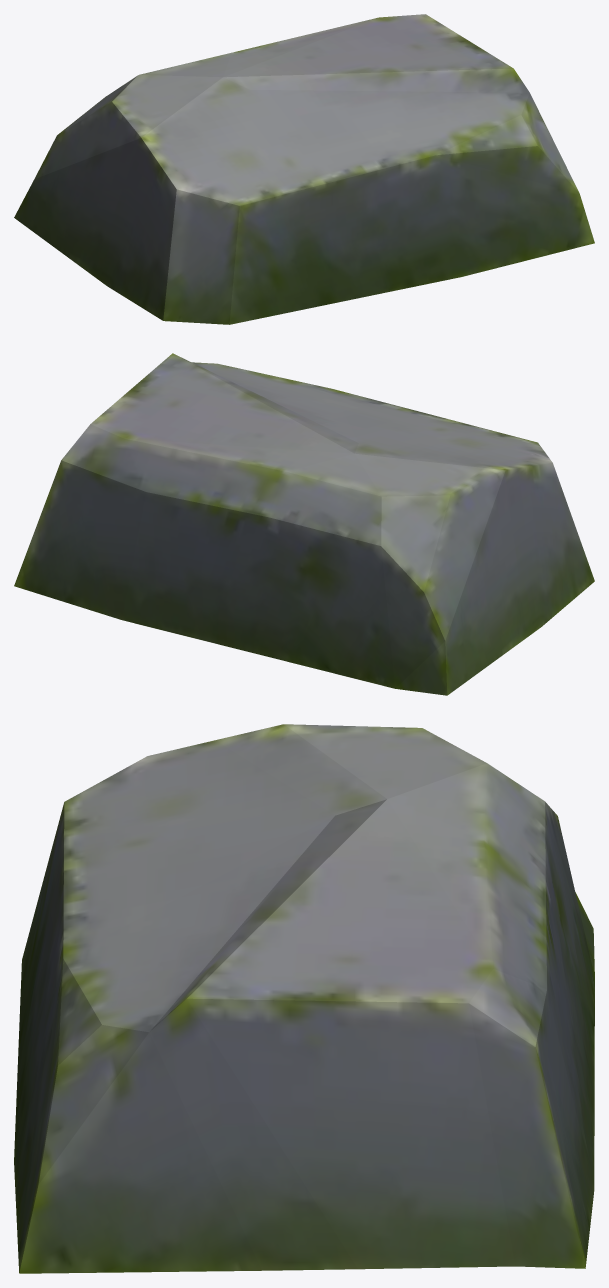
Rendered from pebble-square-mm4rmgwno8-transformed.glb.
The picture shows the model from 3 angles, top to bottom: view 1: azimuth 30°, elevation 25°; view 2: azimuth 150°, elevation 25°; view 3: azimuth 270°, elevation 25°; orthographic projection. The views are drawn at different scales.
Parts seen in each view (by area): view 1: Pebble_Square_2; view 2: Pebble_Square_2; view 3: Pebble_Square_2.
Part boxes in pixels (x1,y1,x2,y2): Pebble_Square_2: (14,14,594,324); Pebble_Square_2: (14,353,594,695); Pebble_Square_2: (14,724,594,1273).
Size of the model in its own units: 0.3911 by 0.1404 by 0.2803.
1 material, 1 textured.
